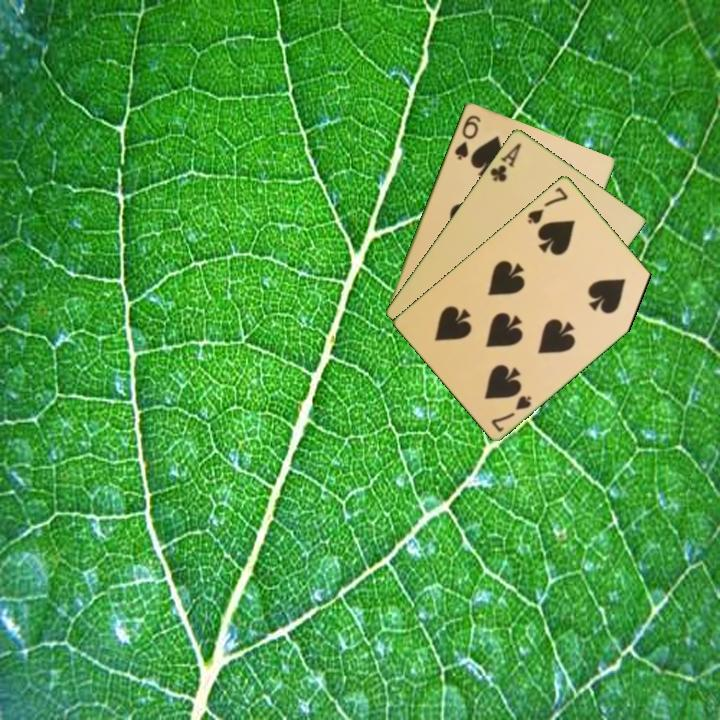6s: (451, 111, 484, 163)
7s: (487, 391, 535, 435), (524, 183, 571, 227)
Ac: (486, 139, 524, 185)
